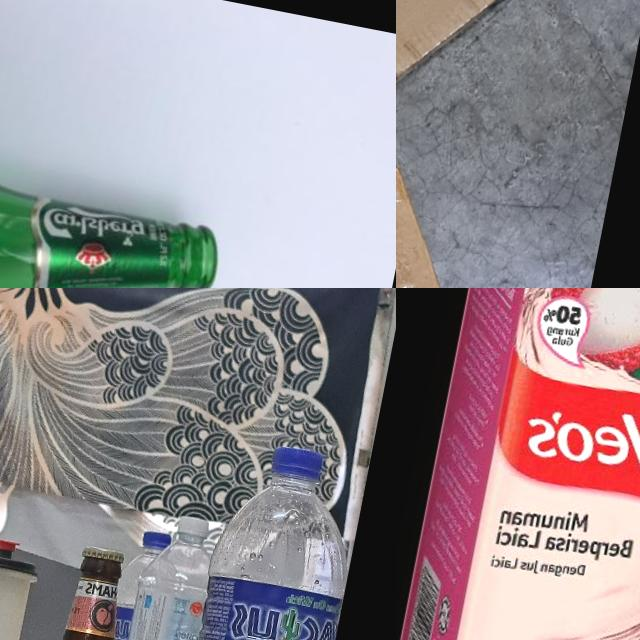caixinha: (396, 288, 640, 640)
garrafa de vidro: (0, 132, 226, 288), (19, 543, 149, 640)
garrafa plástica: (154, 471, 362, 640), (103, 537, 210, 640)
papelão: (396, 0, 619, 288), (396, 120, 605, 288)
tampa plástica: (272, 442, 329, 482), (140, 522, 172, 556), (184, 508, 208, 538)
